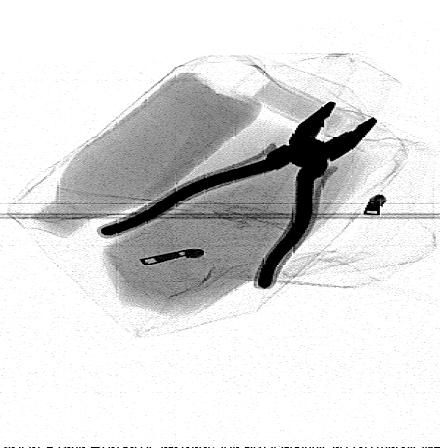Pliers: (98, 99, 379, 289)
